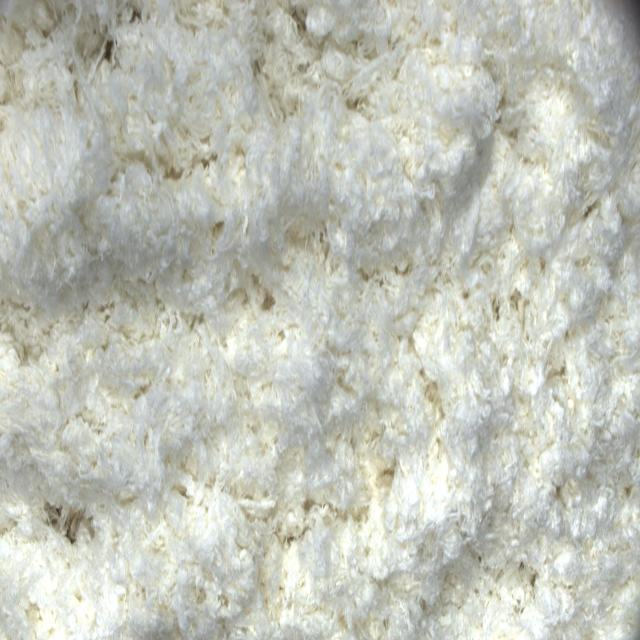dust: (49, 501, 86, 546), (91, 27, 122, 67)
